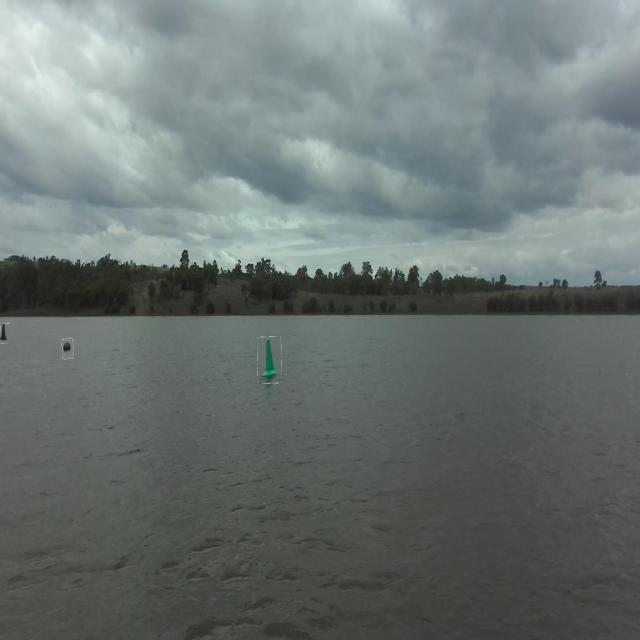Black_Buoy: (58, 333, 82, 374), (0, 315, 14, 352)
Green_Buoy: (254, 330, 297, 392)
